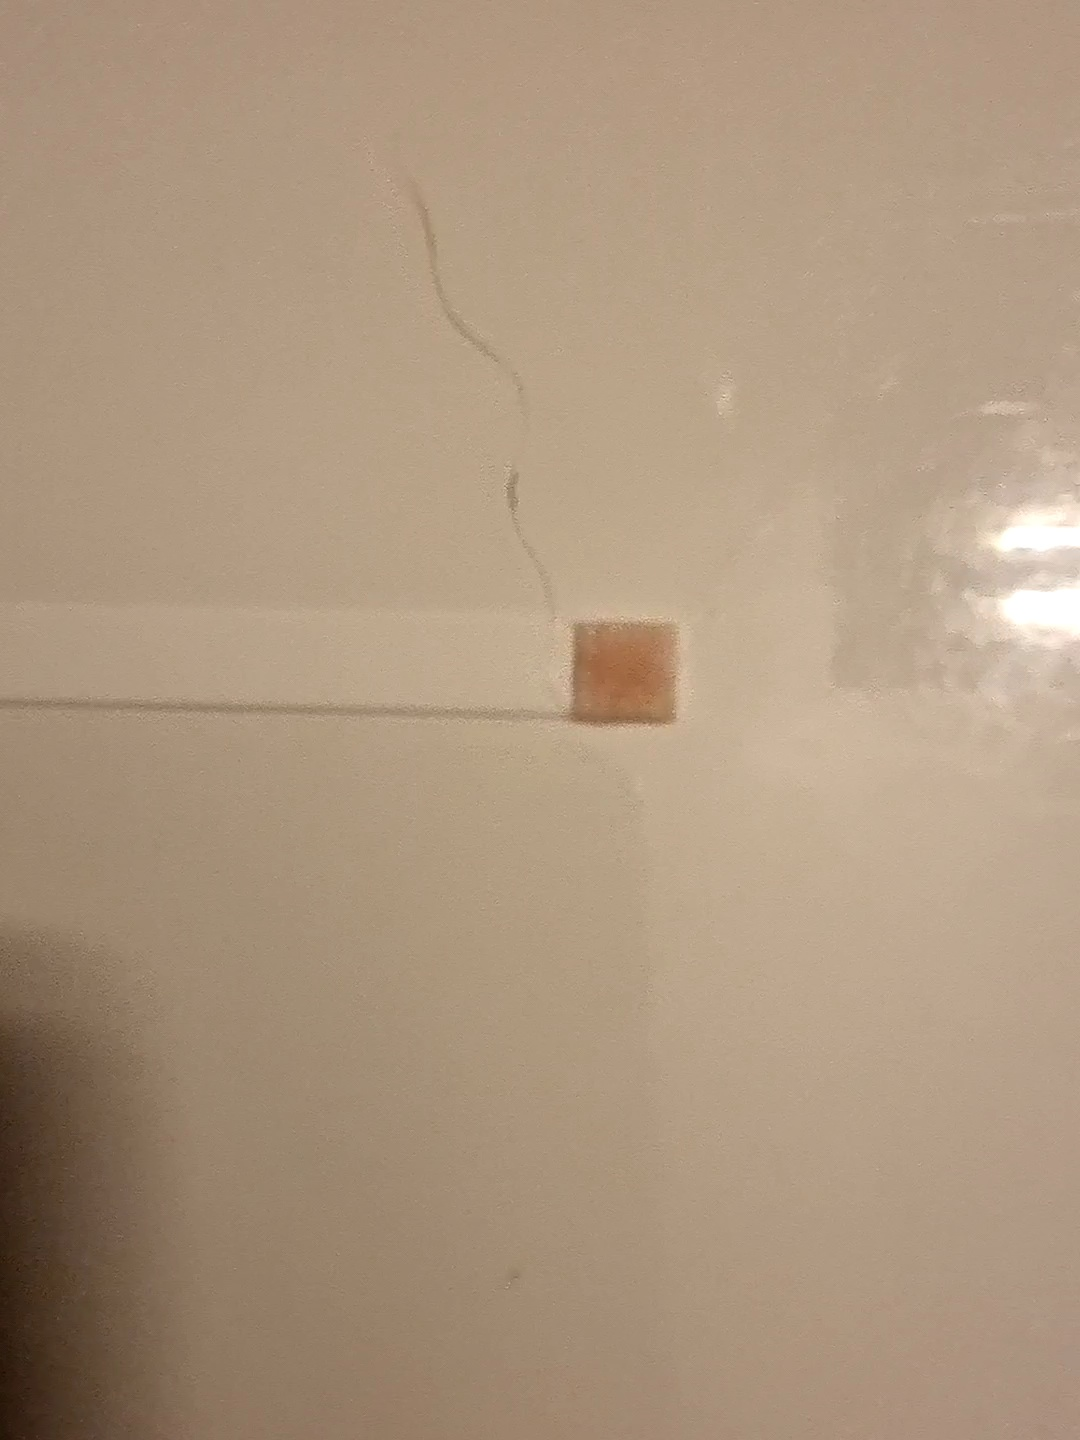keto-tip: (564, 611, 687, 739)
